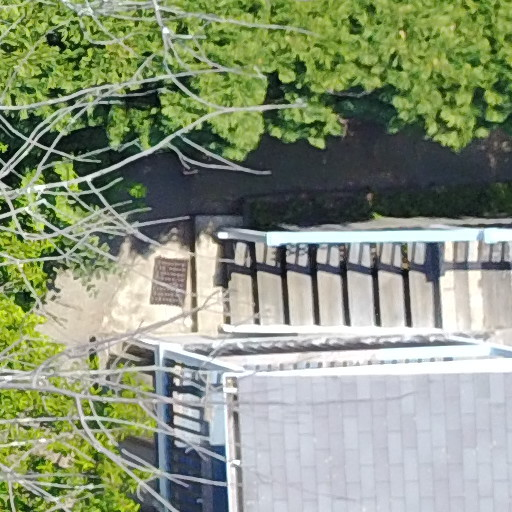porch: (119, 161, 508, 512)
